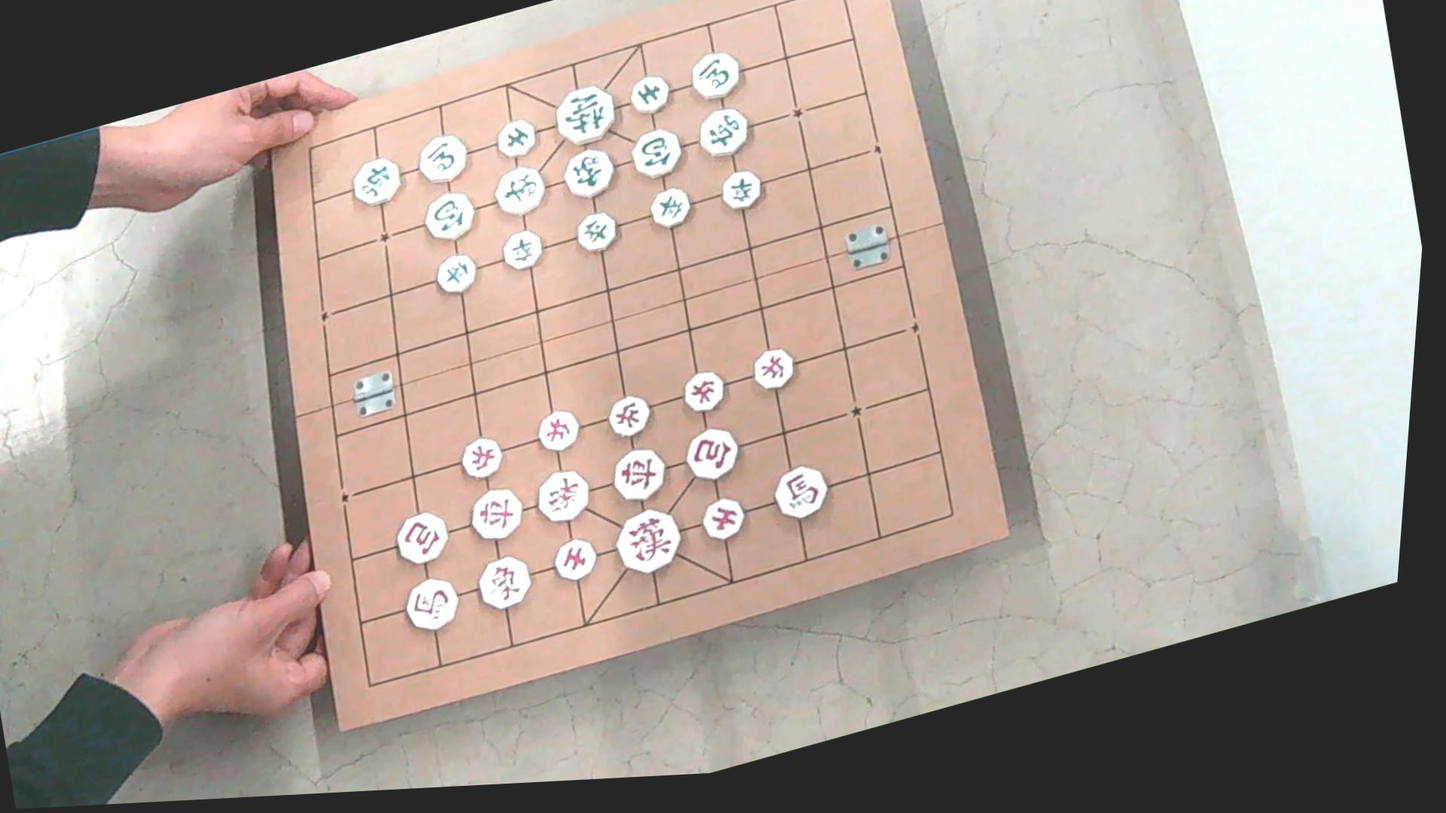cha_green: (344, 153, 405, 212), (693, 103, 752, 161)
cha_red: (606, 443, 670, 507), (463, 481, 526, 546)
jol_green: (571, 209, 620, 256), (715, 166, 764, 213), (432, 250, 479, 297), (498, 227, 545, 273), (647, 185, 693, 231)
jol_red: (454, 433, 505, 483), (532, 404, 583, 454), (602, 391, 653, 440), (678, 367, 728, 416), (748, 344, 798, 392)
ma_green: (685, 46, 745, 103), (413, 129, 471, 187)
ma_red: (767, 460, 831, 523), (399, 573, 463, 636)
po_green: (418, 187, 478, 245), (626, 124, 685, 182)
po_red: (679, 422, 743, 486), (389, 507, 453, 569)
sa_green: (626, 71, 673, 117), (493, 115, 539, 160)
sa_red: (697, 493, 749, 544), (548, 534, 599, 584)
sang_green: (557, 143, 618, 203), (490, 161, 549, 221)
sang_red: (469, 549, 537, 615), (530, 465, 593, 527)
wang_green: (548, 80, 621, 149)
wang_red: (609, 501, 686, 579)
